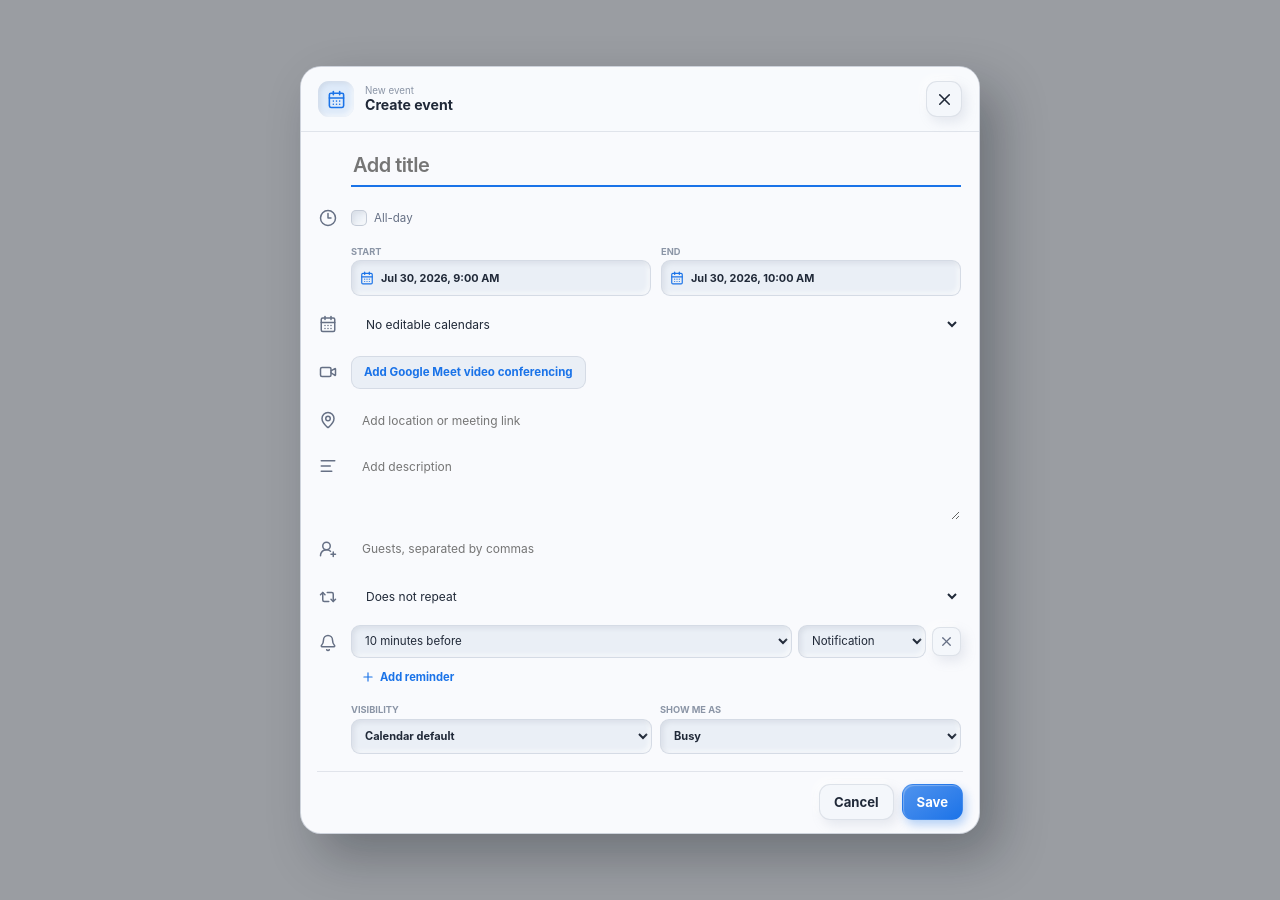
EventDialog › explains that an editable calendar is required
In the field with placeholder "Add title": (656, 168) [351, 148, 961, 187], type "Planning"
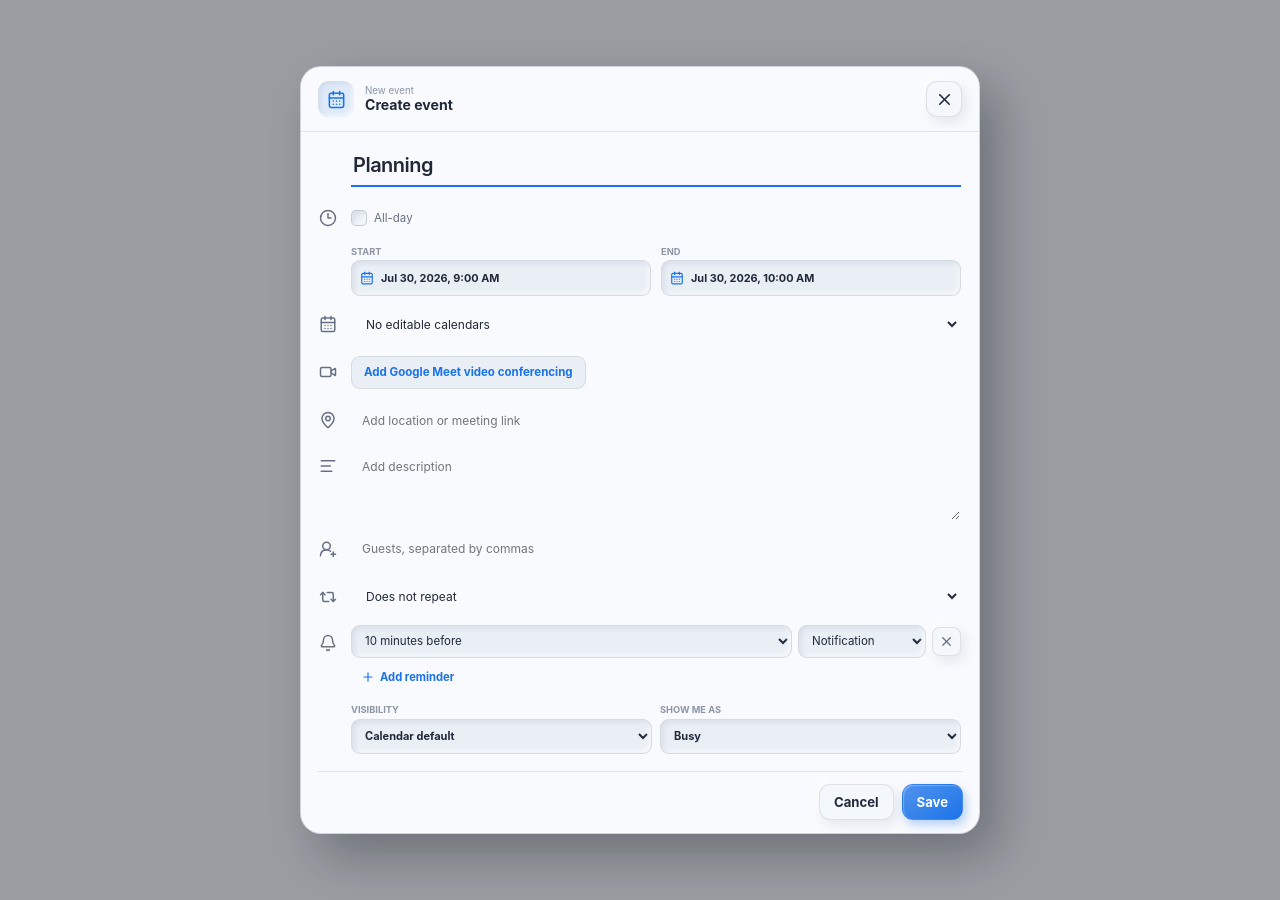
Click the button "Save": (932, 802) [902, 784, 963, 820]
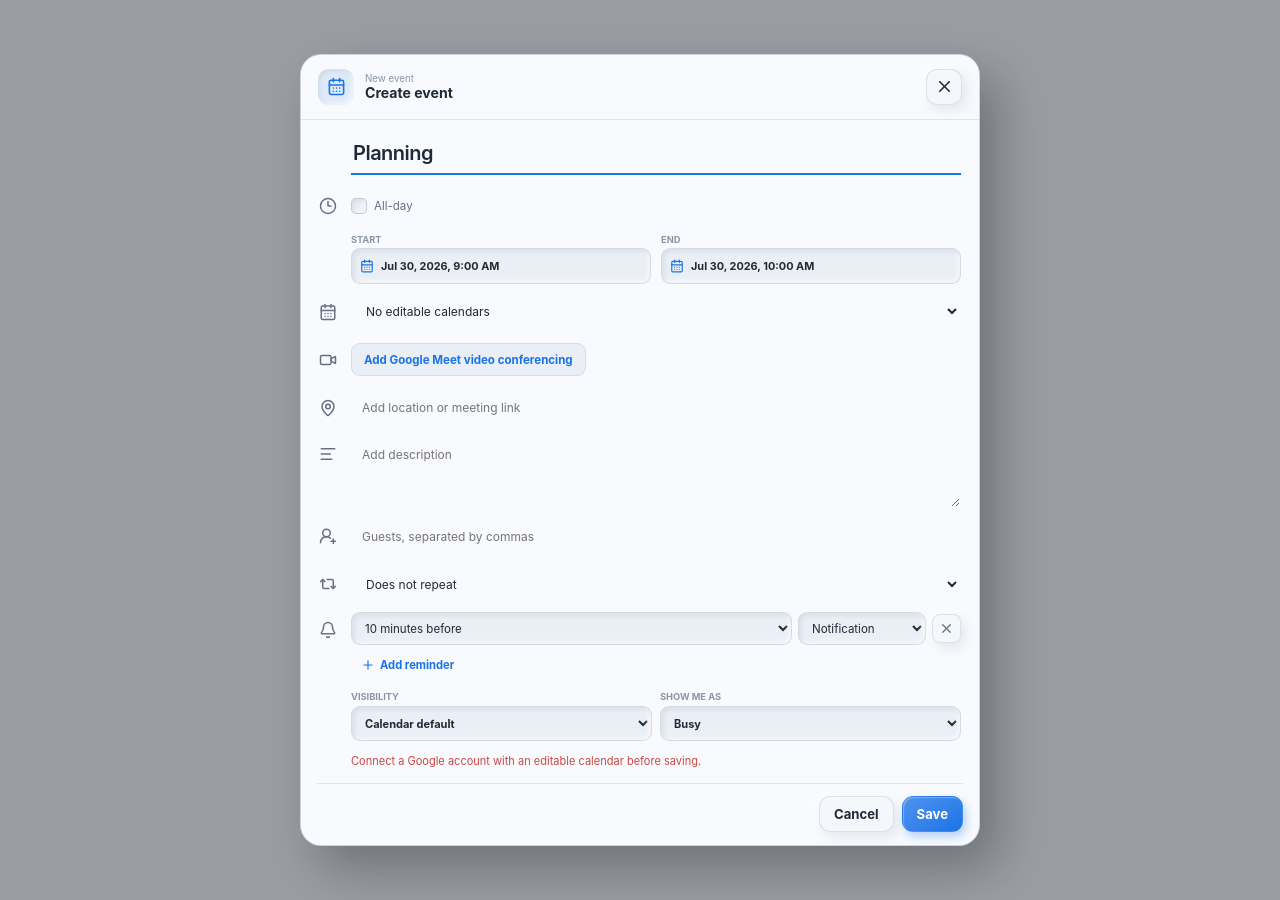
Expected: the text "Connect a Google account with an editable calendar before saving." is shown, [351, 754, 701, 768]
